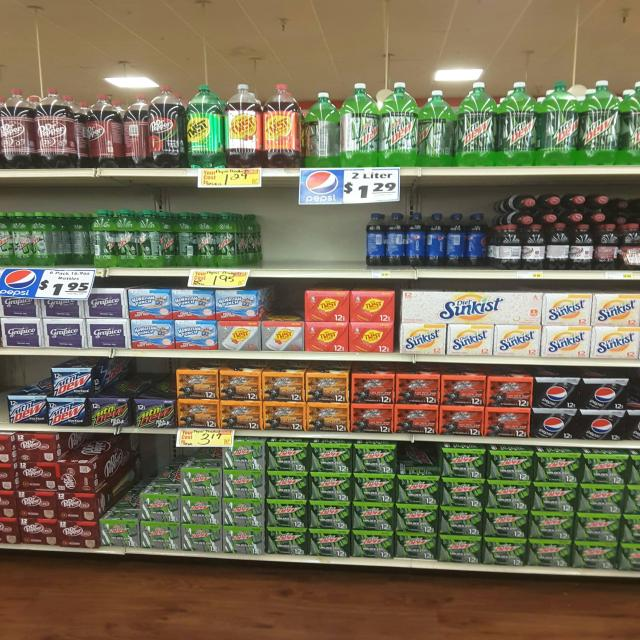empty: (259, 215, 366, 266)
